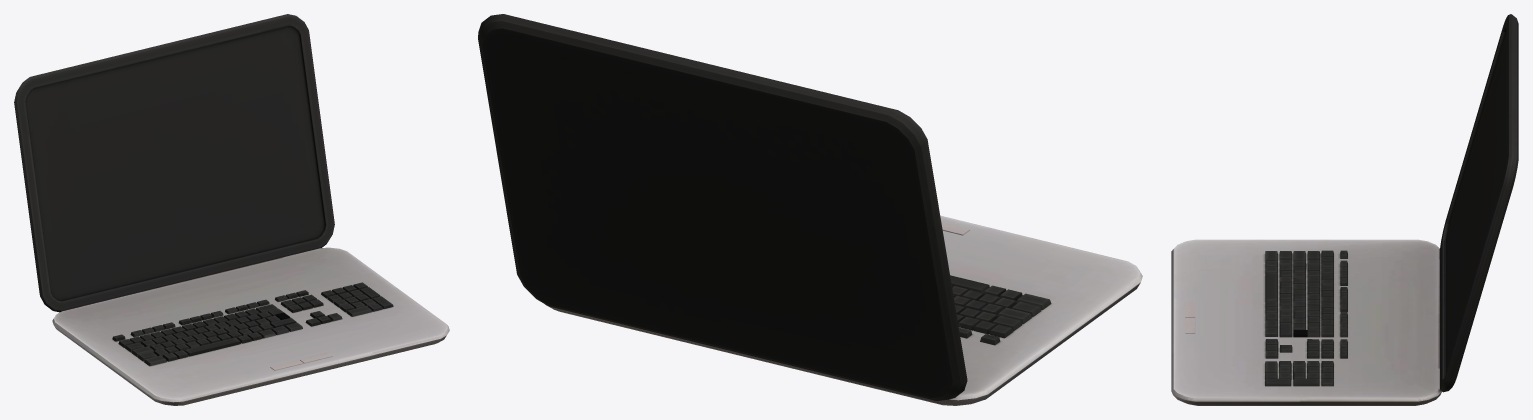
Rendered from pc_laptop.gltf.
The picture shows the model from 3 angles, left to right: view 1: azimuth 30°, elevation 25°; view 2: azimuth 150°, elevation 25°; view 3: azimuth 270°, elevation 25°; orthographic projection. The views are drawn at different scales.
Parts seen in each view (by area): view 1: TECH003; view 2: TECH003; view 3: TECH003.
Part boxes in pixels (x1,y1,x2,y2): TECH003: (14, 14, 449, 405); TECH003: (478, 14, 1142, 405); TECH003: (1171, 14, 1518, 405).
Bounding box in the file's own units: 0.4839 × 0.3442 × 0.4432.
